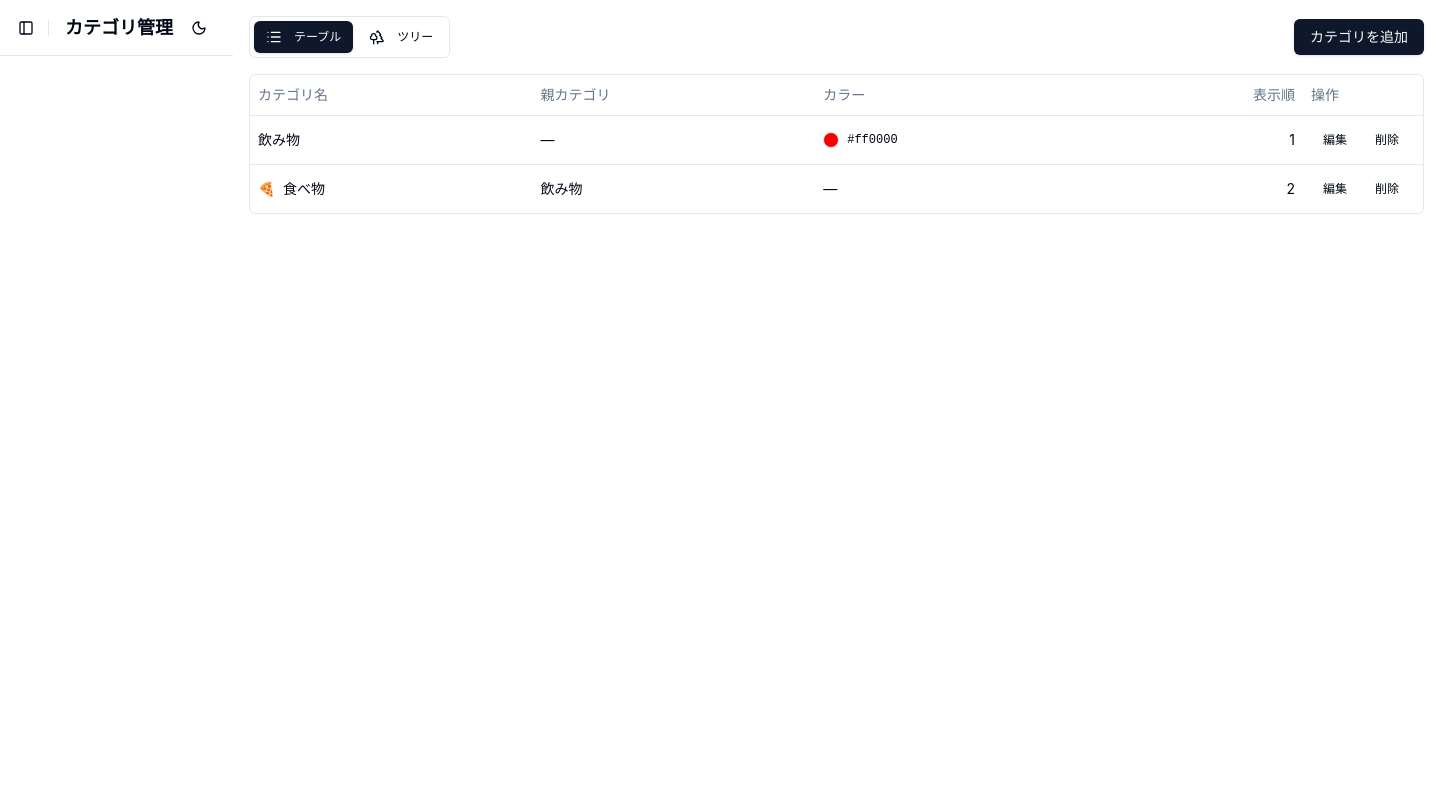
CategoriesPage › 編集ボタンで編集ダイアログが開く
The width and height of the screenshot is (1440, 810).
Click the button "編集" in the row of "#ff0000" at coordinates (1335, 140), box [1311, 124, 1359, 156]
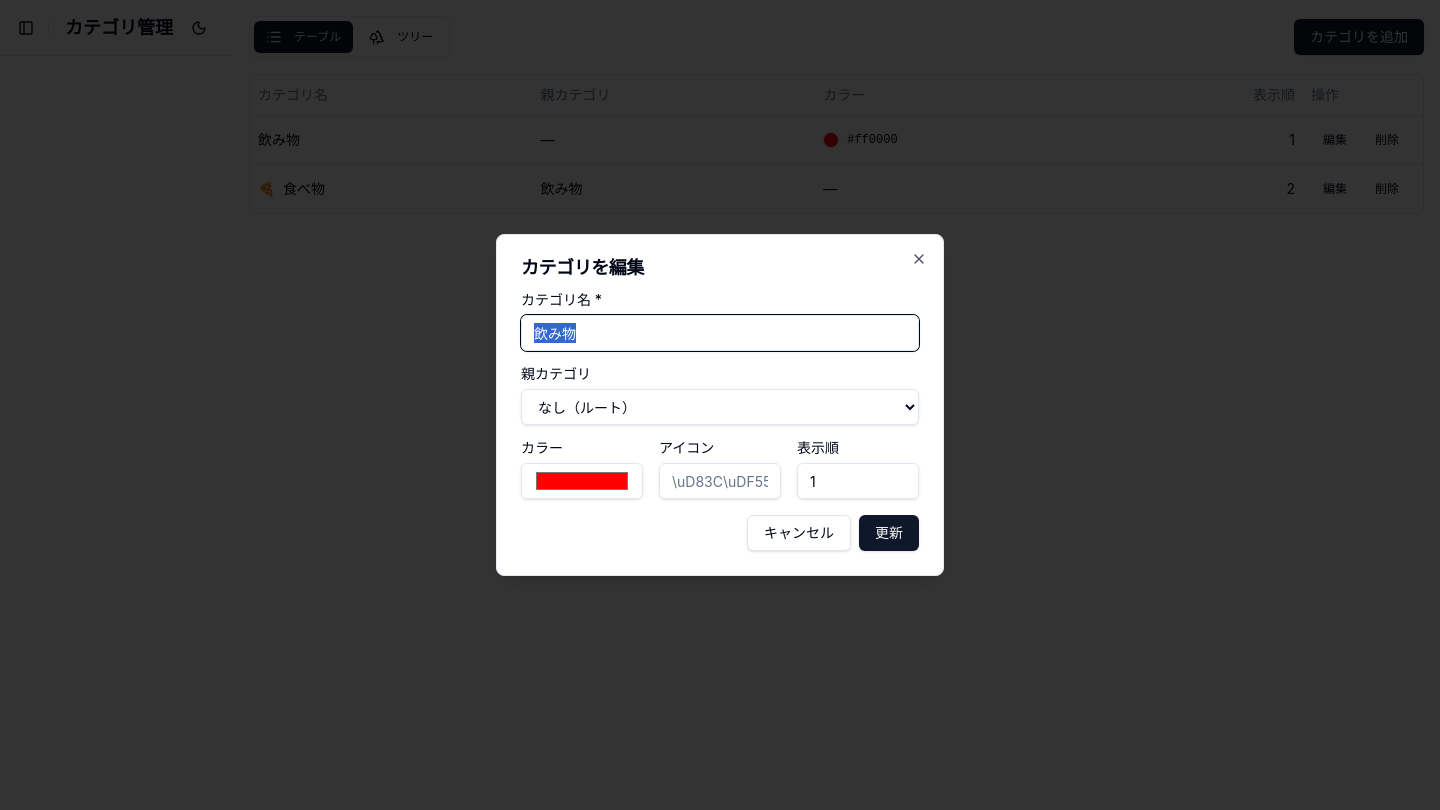
Check: the heading "カテゴリを編集" is shown, box [521, 257, 644, 278]
Check: the field showing "飲み物" is shown, box [521, 315, 919, 351]
